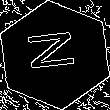N_E: (25, 32, 85, 78)
